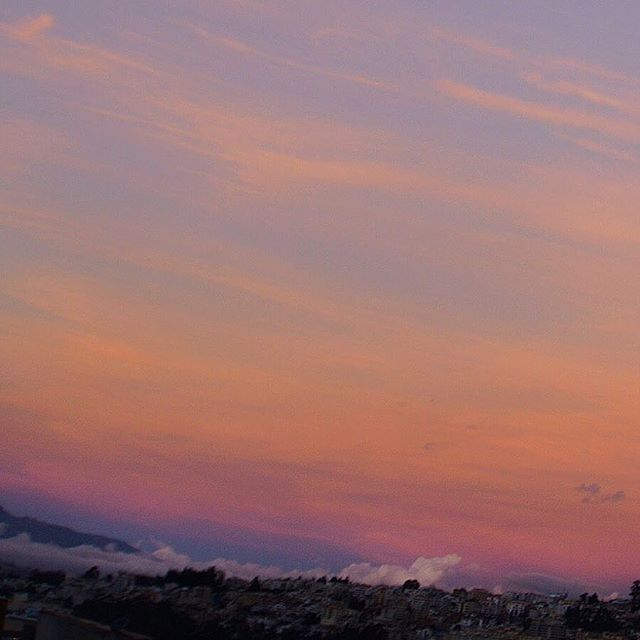sky: (2, 1, 640, 543)
